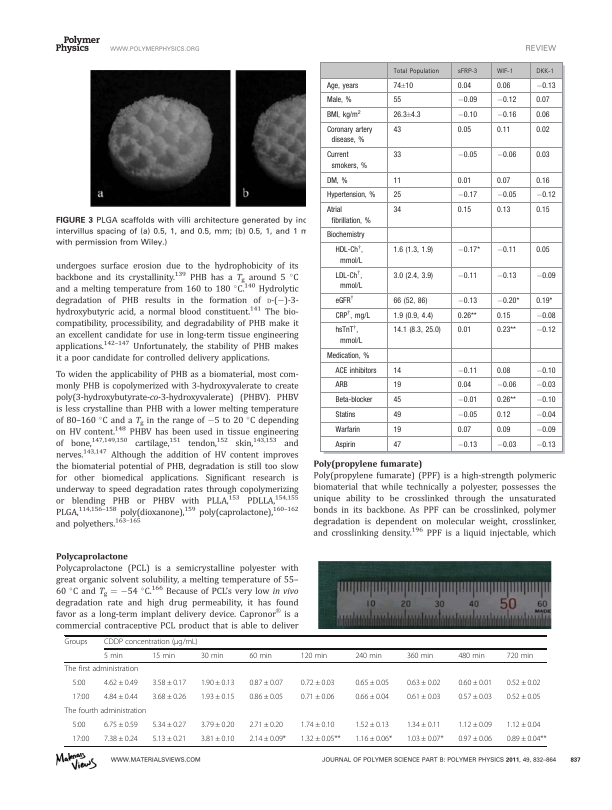bordered: (320, 60, 562, 451)
borderless: (63, 634, 547, 746)
cell: (325, 126, 373, 145), (325, 206, 371, 225), (103, 638, 199, 647), (325, 151, 368, 171), (64, 706, 147, 716), (64, 664, 139, 674), (334, 244, 363, 266), (334, 270, 363, 291), (334, 325, 363, 346), (325, 191, 376, 200), (392, 326, 441, 335), (300, 734, 341, 744), (506, 734, 547, 744), (325, 351, 370, 360), (325, 109, 361, 120), (248, 734, 287, 744), (354, 734, 393, 744), (334, 366, 377, 375), (406, 734, 444, 744), (392, 246, 434, 255), (392, 271, 434, 280), (392, 311, 434, 320), (392, 68, 439, 76), (325, 231, 365, 240), (392, 296, 428, 306), (334, 310, 370, 320), (103, 678, 139, 688), (151, 678, 187, 688), (248, 678, 284, 688), (354, 678, 390, 688), (457, 678, 493, 688), (103, 692, 139, 702), (151, 692, 187, 702), (248, 692, 284, 702), (354, 692, 390, 702), (457, 692, 493, 702), (103, 720, 139, 730), (151, 720, 187, 730), (248, 720, 284, 730), (354, 720, 390, 730), (457, 720, 493, 730), (103, 734, 139, 744), (151, 734, 187, 744), (457, 734, 493, 744), (334, 396, 373, 405), (200, 678, 235, 688), (300, 678, 335, 688), (406, 678, 441, 688), (506, 678, 541, 688), (200, 692, 235, 702), (300, 692, 335, 702), (406, 692, 441, 702), (506, 692, 541, 702), (200, 720, 235, 730), (300, 720, 335, 730), (406, 720, 441, 730), (506, 720, 541, 730), (200, 734, 235, 744), (325, 81, 359, 90), (392, 111, 421, 120), (354, 651, 383, 660), (457, 651, 486, 660), (300, 651, 328, 660), (406, 651, 434, 660), (506, 651, 534, 660), (495, 296, 520, 306), (325, 96, 352, 105), (334, 425, 361, 434), (151, 651, 176, 660), (248, 651, 273, 660), (334, 295, 354, 306), (456, 296, 478, 306), (334, 410, 356, 420), (456, 410, 478, 420), (456, 246, 480, 255), (64, 638, 88, 647), (200, 651, 224, 660), (535, 410, 556, 420), (325, 176, 348, 185), (392, 81, 414, 90), (456, 96, 478, 105), (495, 96, 517, 105), (456, 111, 478, 120), (495, 111, 517, 120), (456, 151, 478, 160), (495, 151, 517, 160), (456, 191, 478, 200), (495, 191, 517, 200), (495, 246, 517, 255), (456, 271, 478, 280), (495, 271, 517, 280), (456, 366, 478, 375), (495, 381, 517, 390), (456, 396, 478, 405), (334, 440, 356, 449), (456, 440, 478, 449), (495, 440, 517, 449), (71, 692, 90, 702), (71, 734, 90, 744), (535, 81, 556, 90), (535, 191, 556, 200), (535, 271, 556, 280), (456, 311, 477, 320), (535, 311, 556, 320), (495, 326, 516, 335), (535, 326, 556, 335), (535, 366, 556, 375), (535, 381, 556, 390), (495, 396, 516, 405), (535, 396, 556, 405), (535, 425, 556, 434), (535, 440, 556, 449), (103, 651, 124, 660), (535, 296, 553, 306), (456, 68, 478, 76), (495, 410, 511, 420), (535, 68, 554, 76), (71, 678, 86, 688), (71, 720, 86, 730), (495, 68, 513, 76), (456, 81, 472, 90), (495, 81, 511, 90), (456, 126, 472, 135), (495, 126, 511, 135), (456, 176, 472, 185), (495, 176, 511, 185), (456, 206, 472, 215), (495, 206, 511, 215), (495, 311, 511, 320), (456, 326, 472, 335), (495, 366, 511, 375), (456, 381, 472, 390), (456, 425, 472, 434), (495, 425, 511, 434), (535, 96, 550, 105), (535, 111, 550, 120), (535, 126, 550, 135), (535, 151, 550, 160), (535, 176, 550, 185), (535, 206, 550, 215), (535, 246, 550, 255), (334, 381, 348, 390), (392, 410, 402, 420), (392, 96, 402, 105), (392, 126, 402, 135), (392, 151, 402, 160), (392, 176, 402, 185), (392, 191, 402, 200), (392, 206, 402, 215), (392, 366, 402, 375), (392, 381, 402, 390), (392, 396, 402, 405), (392, 425, 402, 434), (392, 440, 402, 449)
